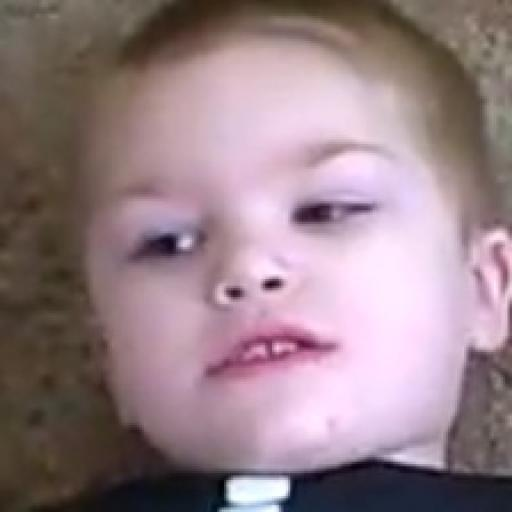Autism: (69, 46, 469, 493)
